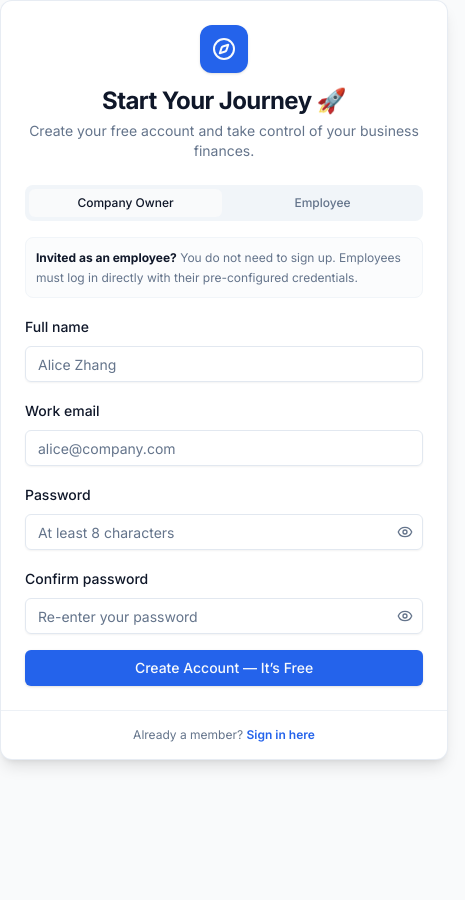
Test case: SignUpForm › blocks sign-up if check-email endpoint detects email is already added as employee
In the field labelled "Full name": (224, 364) top-left (25, 346), bottom-right (423, 382), type "Employee Bob"
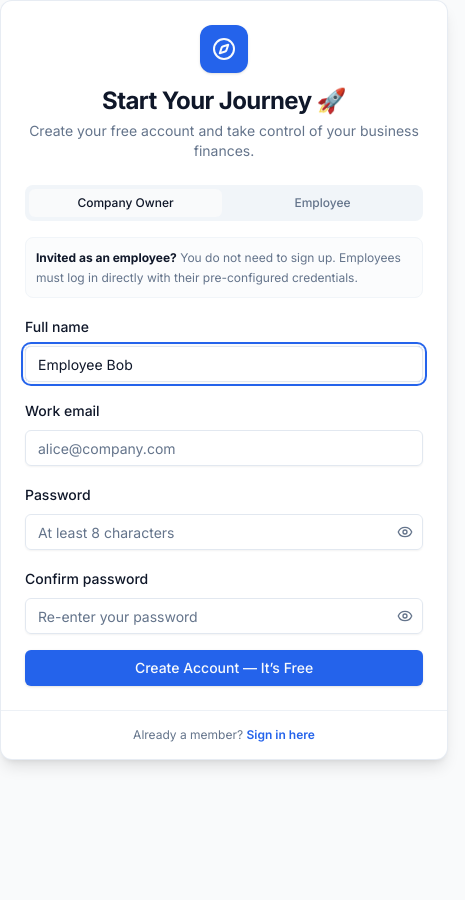
In the field labelled "Work email": (224, 448) top-left (25, 430), bottom-right (423, 466), type "bob@company.com"
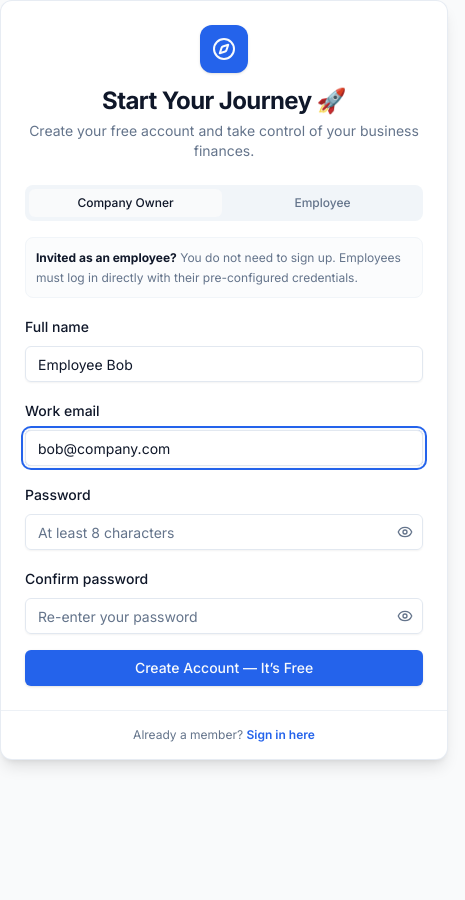
In the password field labelled "Password": (224, 532) top-left (25, 514), bottom-right (423, 550), type "securepassword123"
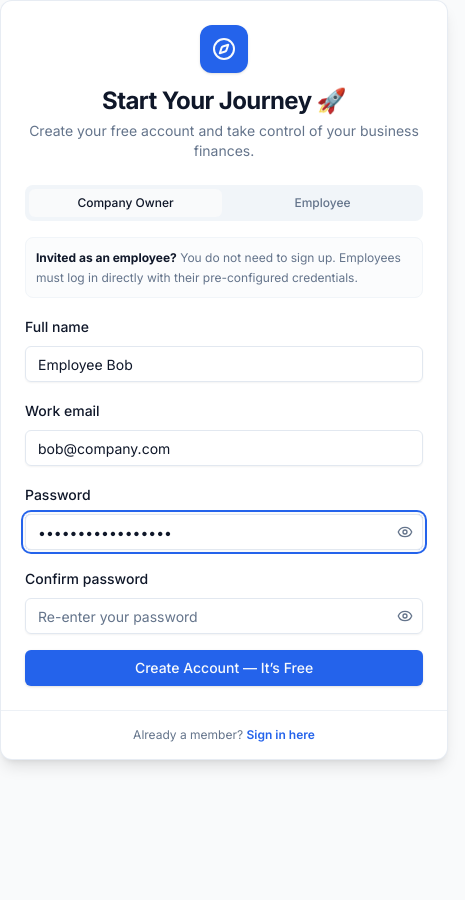
In the password field labelled "Confirm password": (224, 616) top-left (25, 598), bottom-right (423, 634), type "securepassword123"
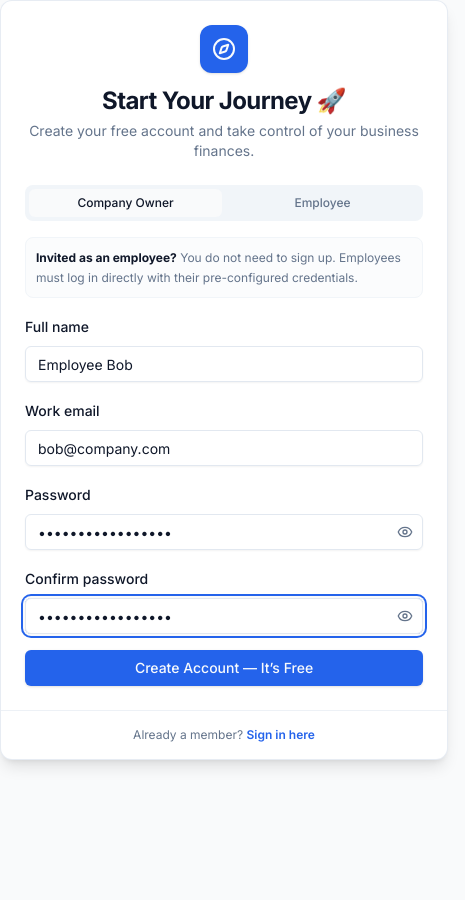
Click the button "Create Account — It’s Free": click(224, 668) top-left (25, 650), bottom-right (423, 686)
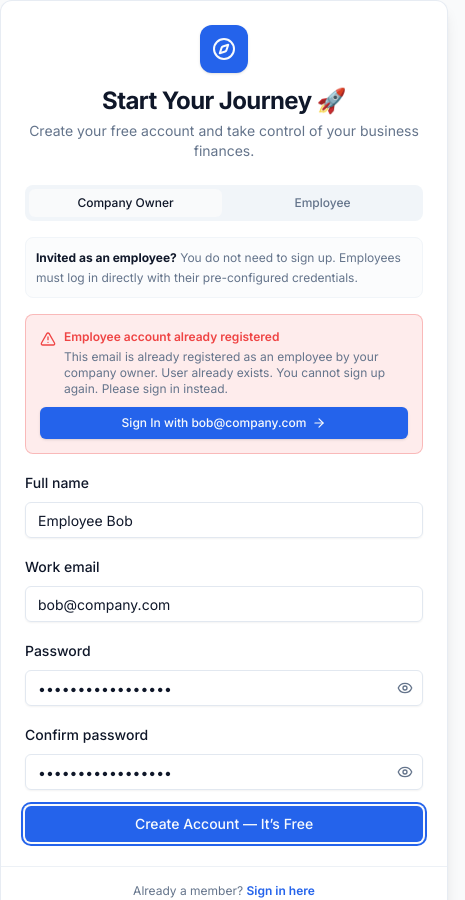
Now the text "registered as an employee" is shown, box top-left (64, 349), bottom-right (385, 396)
